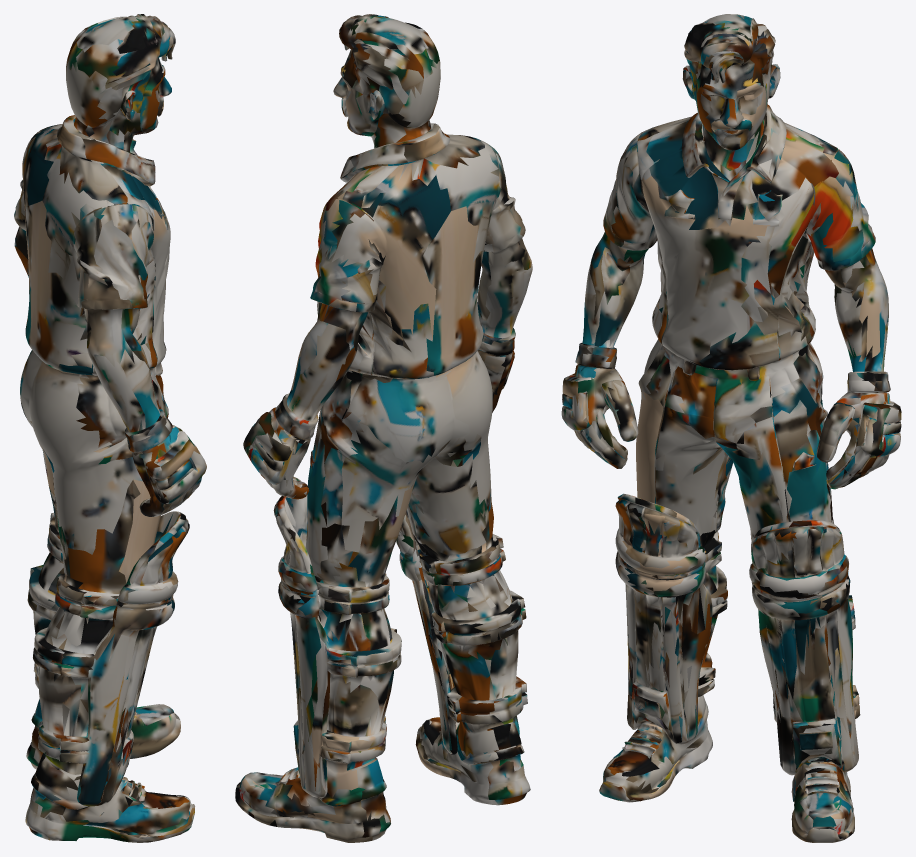
Rendered from SM_C26_Player_Bowler.fbx.
The picture shows the model from 3 angles, left to right: view 1: azimuth 30°, elevation 25°; view 2: azimuth 150°, elevation 25°; view 3: azimuth 270°, elevation 25°; orthographic projection.
Parts seen in each view (by area): view 1: node_0; view 2: node_0; view 3: node_0.
Boxes of the visible parts, x1,y1,x2,y2 form: node_0: (14,14,206,842); node_0: (235,14,532,842); node_0: (561,14,901,842).
Bounding box in the file's own units: 71.3 × 53.19 × 182.
